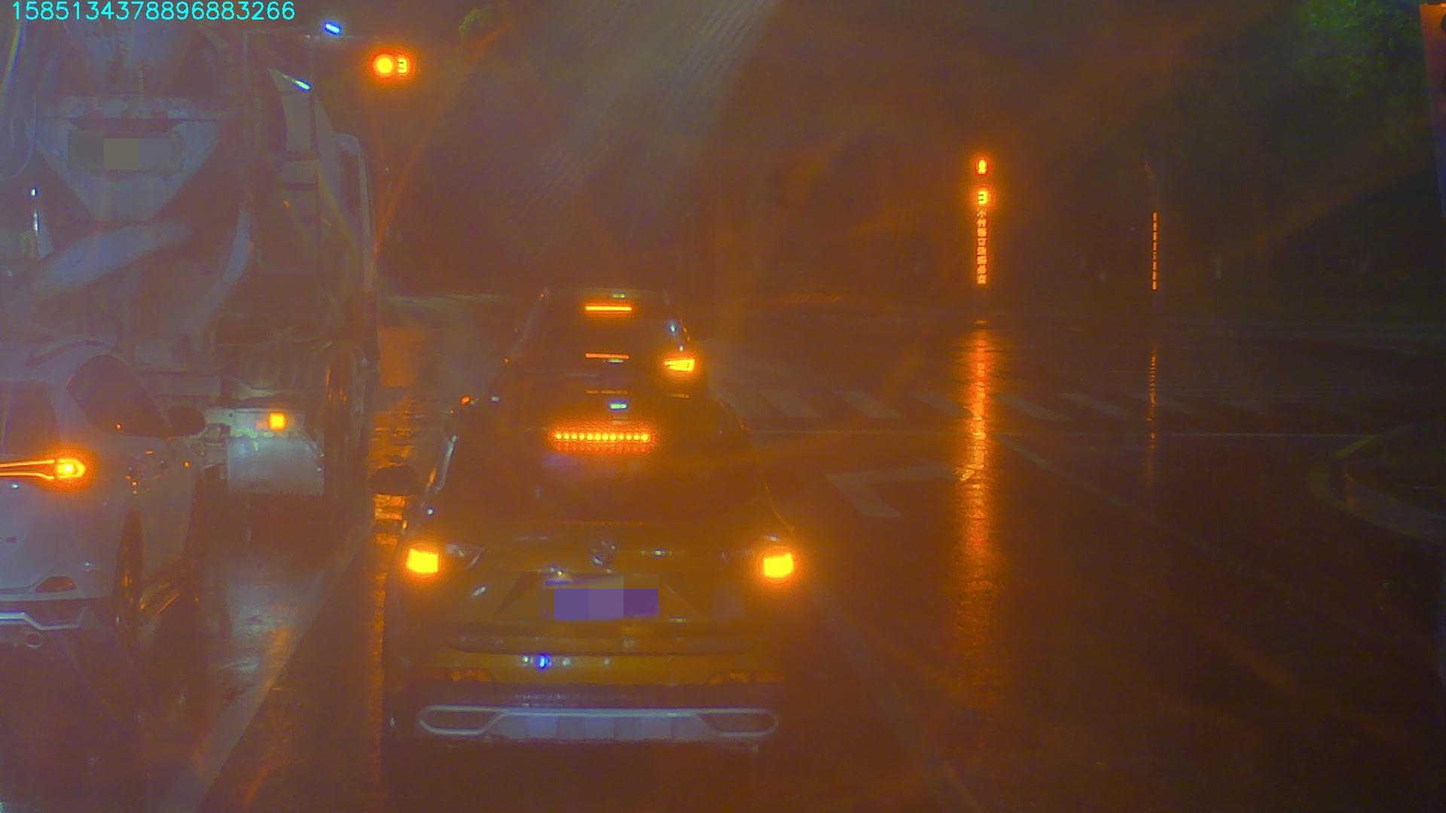red: (364, 43, 410, 80)
